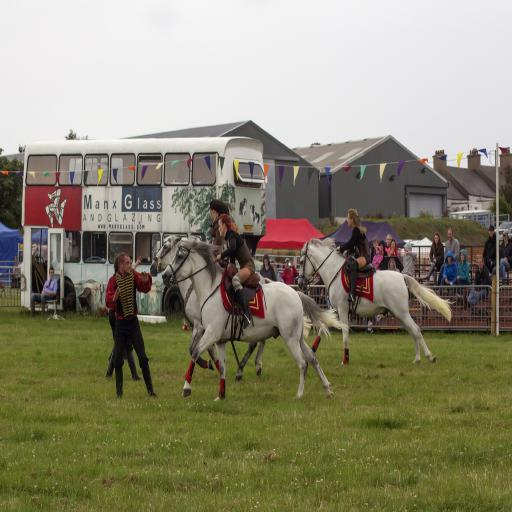horse: (160, 234, 352, 400), (149, 233, 312, 384), (296, 234, 458, 365)
